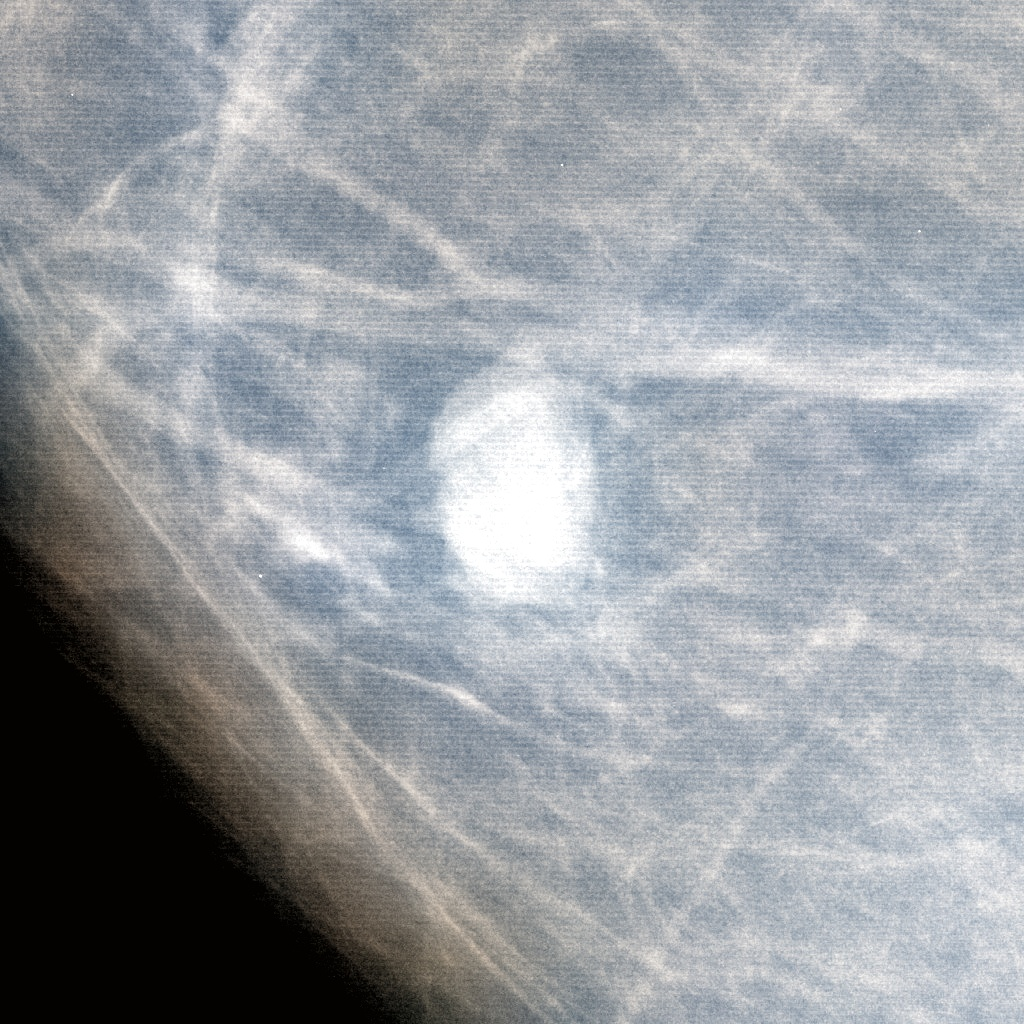tumor: (416, 372, 608, 652)
